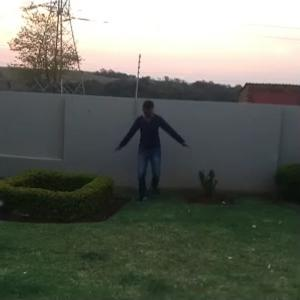land: (111, 98, 189, 207)
